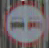No overtake: (2, 0, 43, 47)
